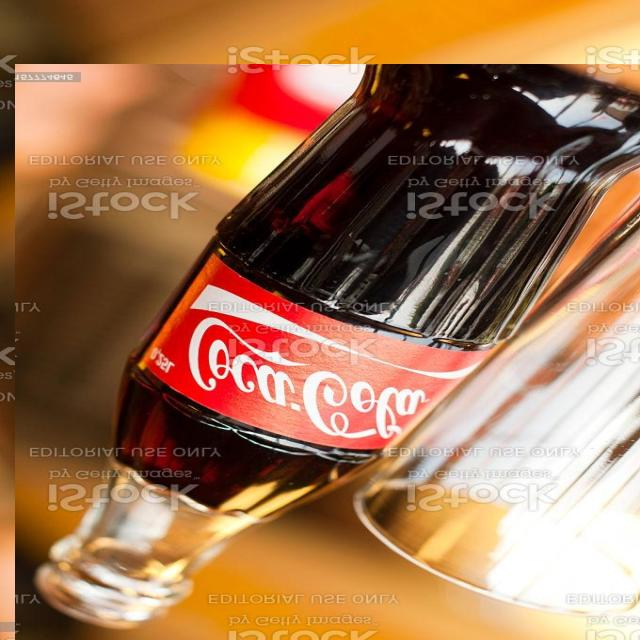coca-cola: (15, 64, 640, 640)
